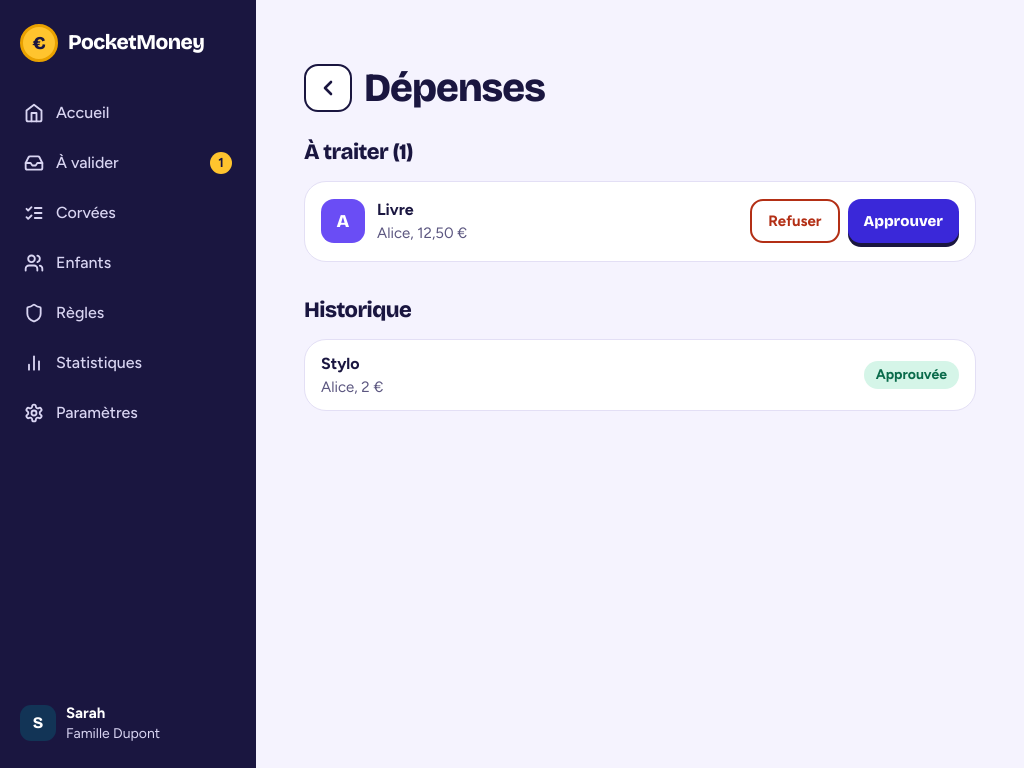
Test: revue des dépenses (parent) › approuve avec le montant ajusté
Later steps or results of the test are not shown.
What coordinates should you click on to do the following:
click the button "Approuver"
I would click on:
 (903, 221)
Its box is [848,199,959,243].
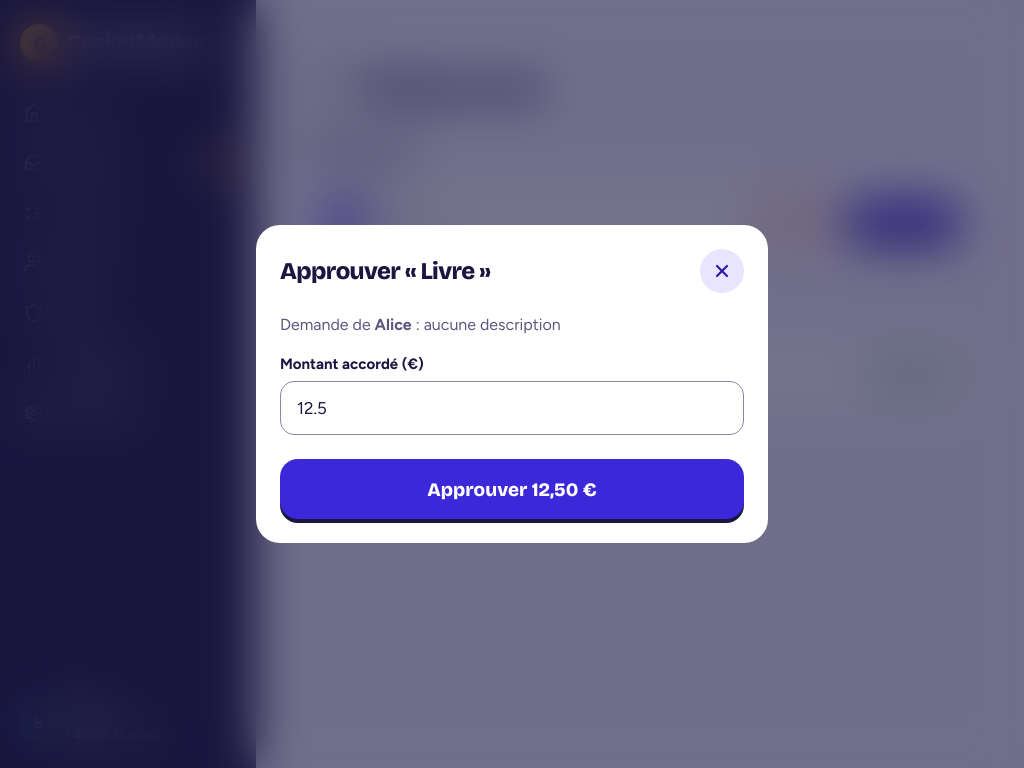
Expected: the number field labelled "Montant accordé (€)" holds "12.5", [280,381,744,435]
